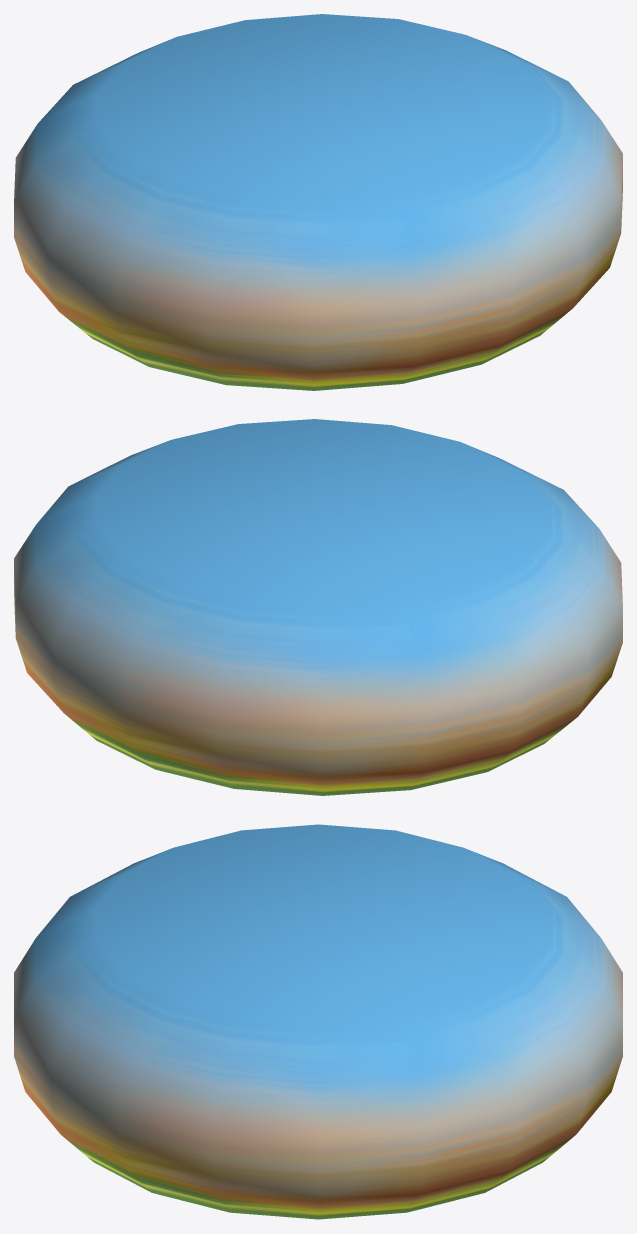
3 views of the same model, one above another, from view 1: azimuth 30°, elevation 25°; view 2: azimuth 150°, elevation 25°; view 3: azimuth 270°, elevation 25° (orthographic). The views are drawn at different scales.
Parts seen in each view (by area): view 1: BG; view 2: BG; view 3: BG.
Part boxes in pixels (x1=…): BG: x1=14, y1=14, x2=622, y2=390; BG: x1=14, y1=419, x2=622, y2=795; BG: x1=14, y1=824, x2=622, y2=1219.
Size of the model in its own units: 4157 by 1334 by 3941.
Materials: 2 (2 with a texture image).
